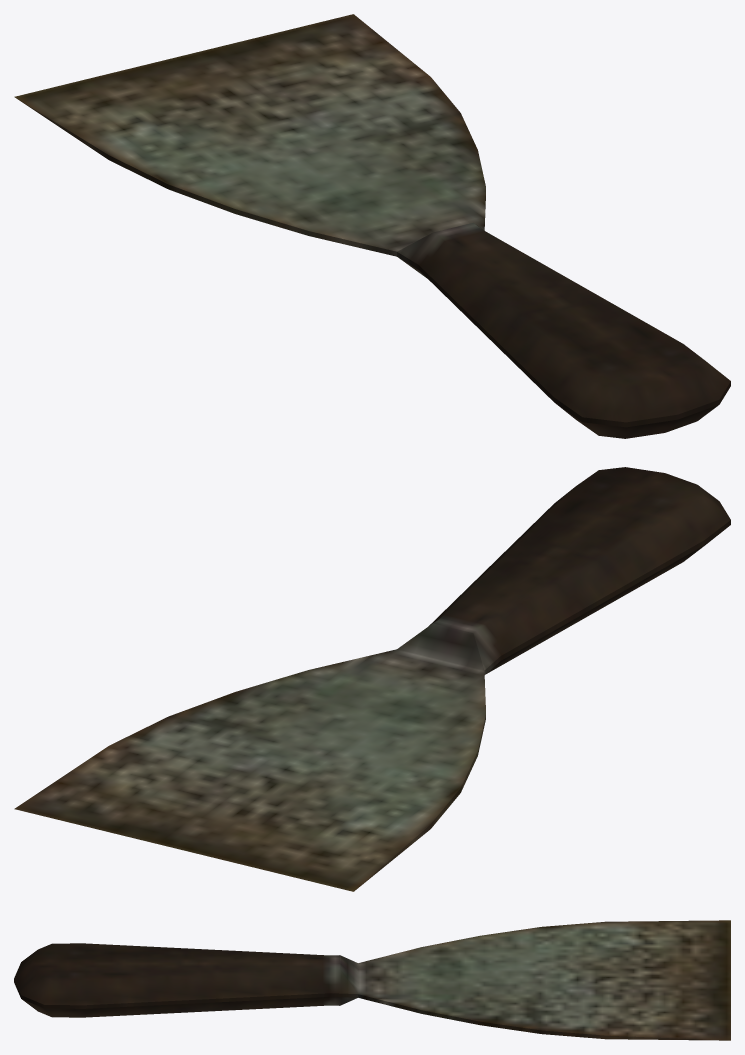
Rendered from misc_tool_mx_5.obj.
3 renders of one model, top to bottom at view 1: azimuth 30°, elevation 25°; view 2: azimuth 150°, elevation 25°; view 3: azimuth 270°, elevation 25°, orthographic. The views are drawn at different scales.
Visible parts, largest first — view 1: misc_tool_mx_5; view 2: misc_tool_mx_5; view 3: misc_tool_mx_5.
Part boxes in pixels (x1=…): misc_tool_mx_5: x1=14, y1=14, x2=730, y2=438; misc_tool_mx_5: x1=14, y1=467, x2=730, y2=891; misc_tool_mx_5: x1=14, y1=920, x2=730, y2=1040.
Bounding box in the file's own units: 0.1422 × 0.02 × 0.3582.
